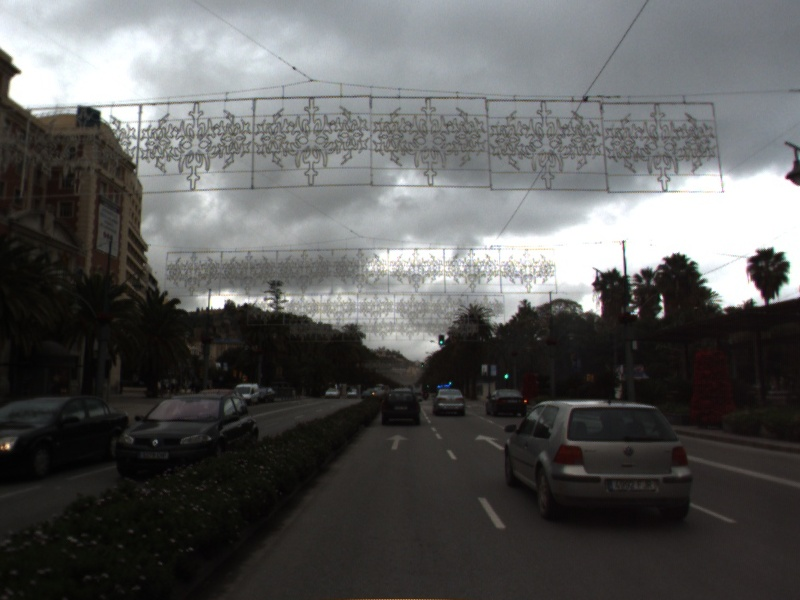STRAIGHT: (472, 432, 507, 451), (384, 432, 411, 452)
